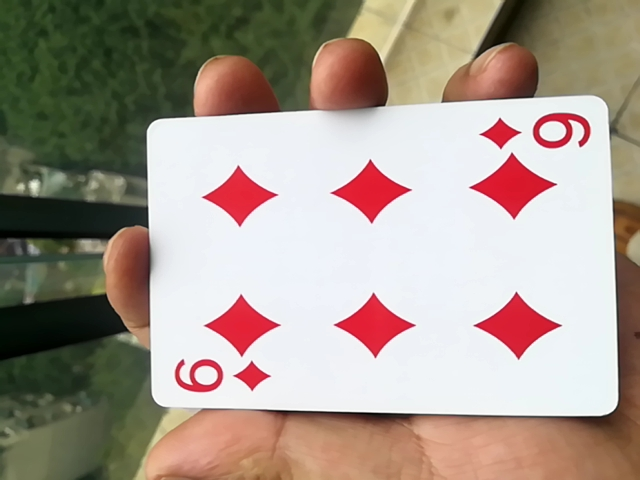fk 6: (131, 112, 618, 431)
